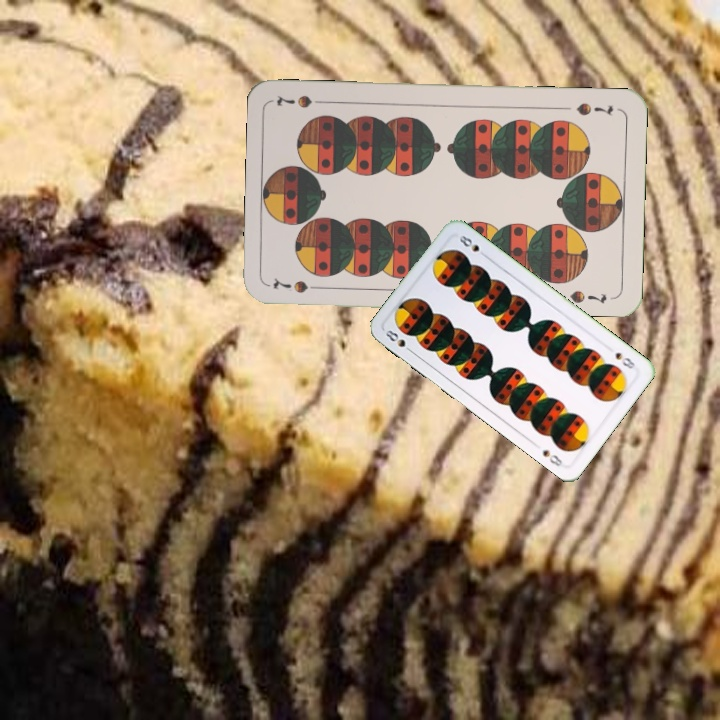S7: (269, 274, 326, 296), (572, 98, 616, 118)
S8: (380, 326, 416, 356), (611, 348, 640, 371)
